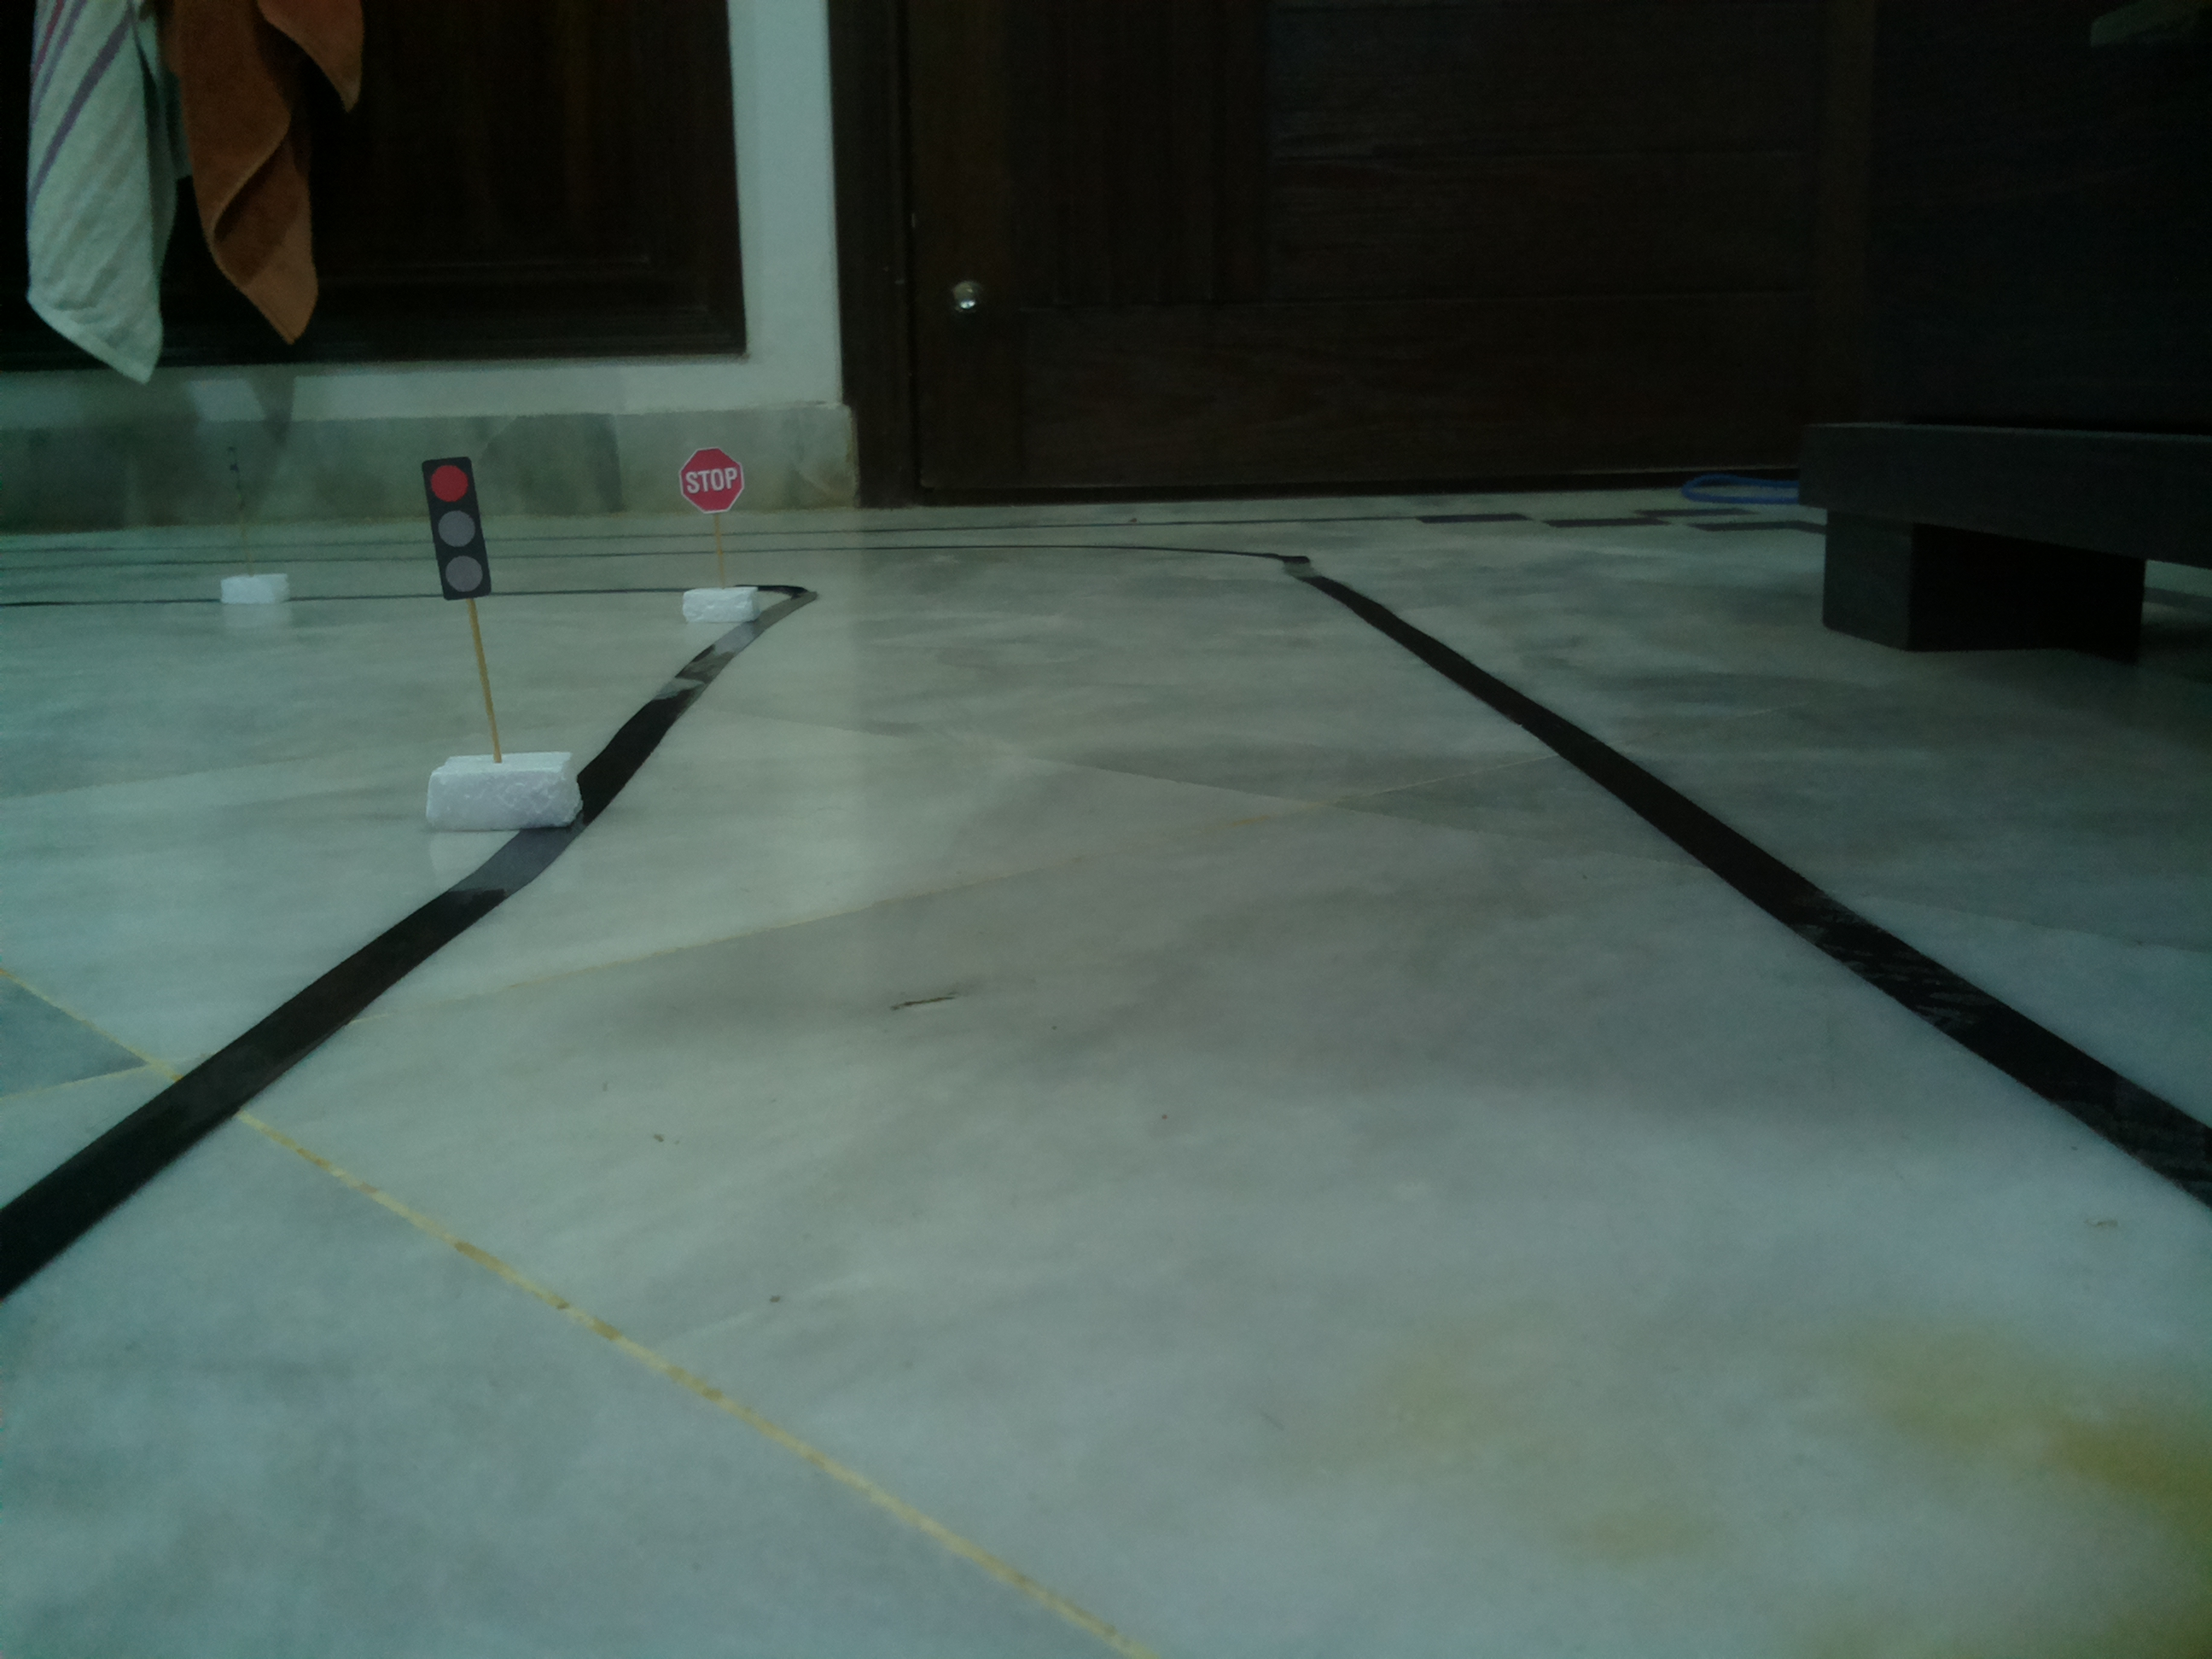Stop sign: (676, 450, 751, 518)
